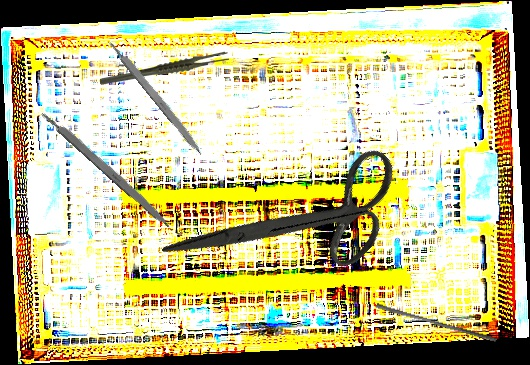Iris Scissors: (161, 89, 424, 354)
Pusher: (374, 303, 499, 342)
Scalpel Handle: (38, 106, 175, 231), (106, 36, 207, 158)
Tissue Forceps: (99, 50, 230, 87)
